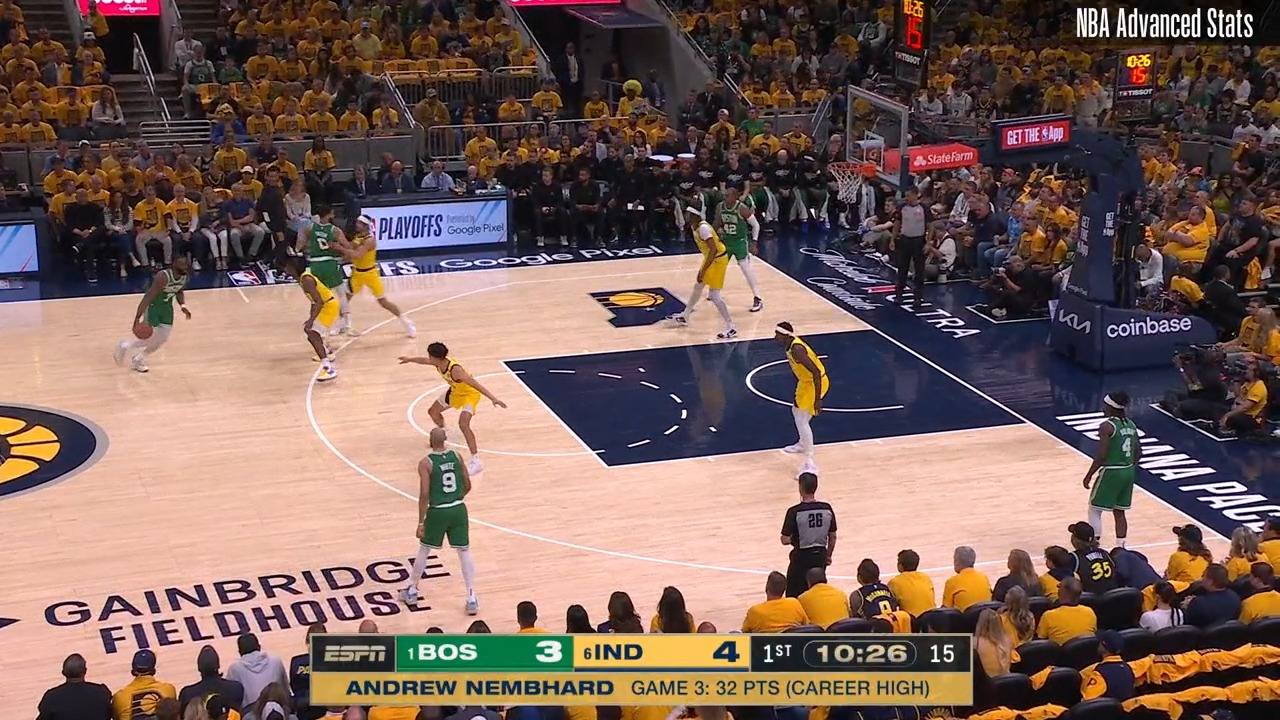basketball: (130, 313, 159, 345)
